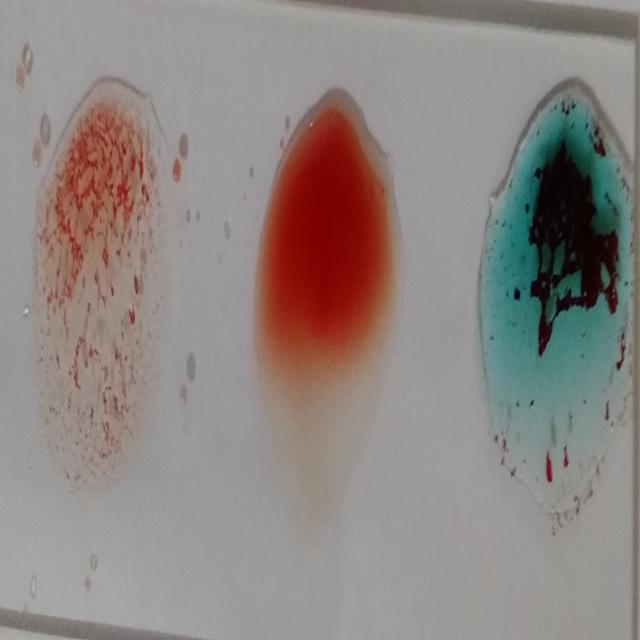A: (478, 68, 632, 511)
D: (38, 88, 160, 498)
